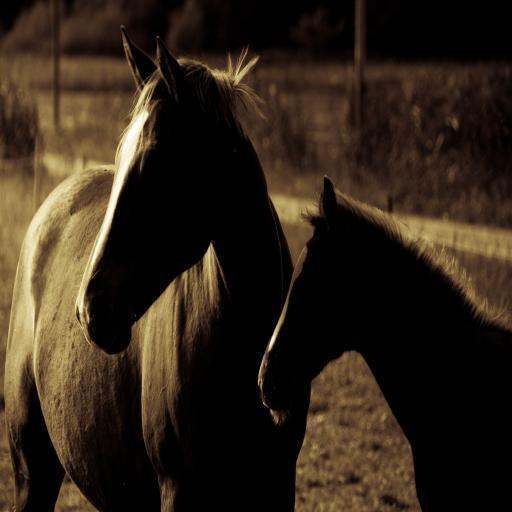horse: (4, 24, 312, 512), (257, 176, 512, 512)
